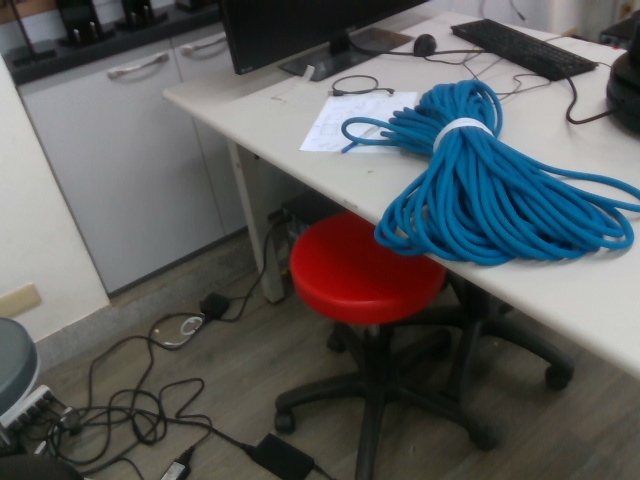rope: (340, 78, 640, 269)
